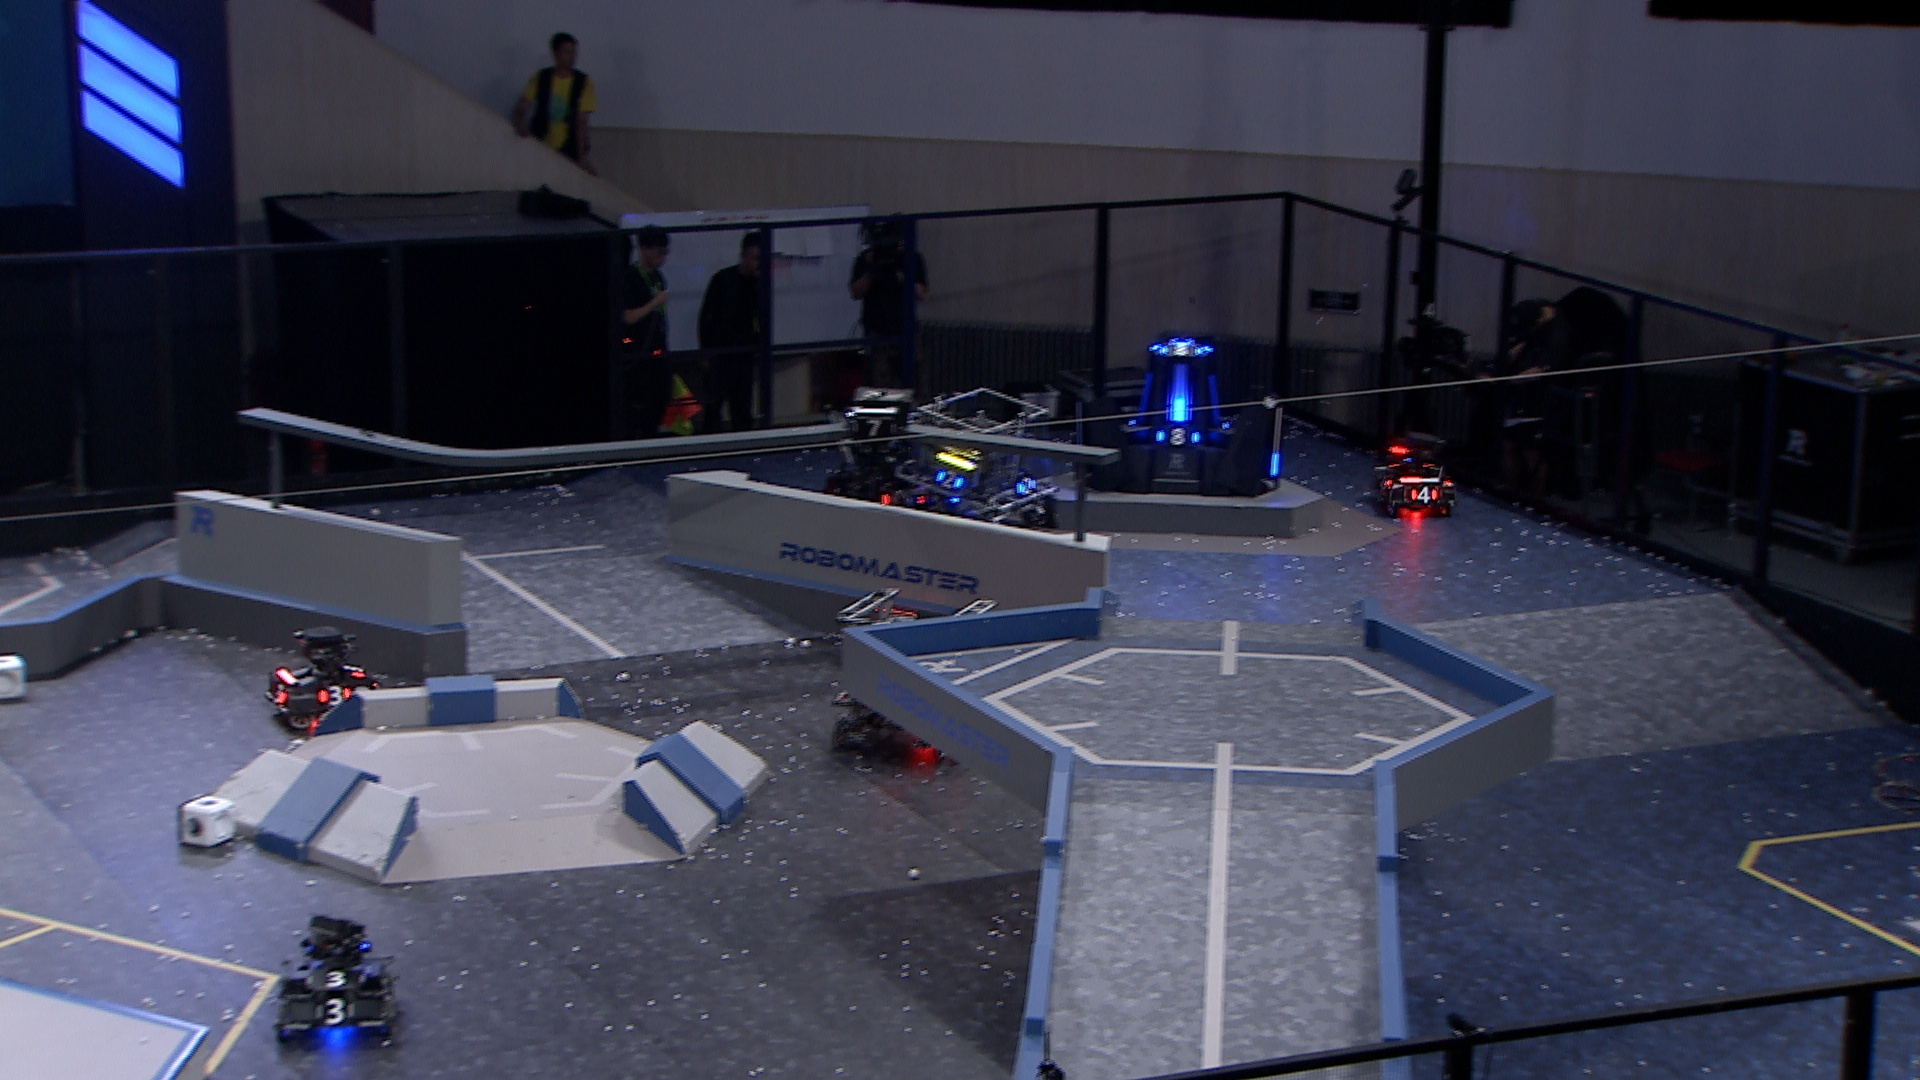armor: (305, 967, 367, 989), (314, 996, 359, 1026), (1131, 371, 1156, 425), (1153, 427, 1203, 448), (1207, 373, 1225, 427), (849, 418, 891, 440), (1158, 338, 1204, 357), (311, 684, 351, 707), (935, 467, 965, 491), (1406, 485, 1439, 502), (1013, 473, 1039, 495), (375, 975, 396, 1001), (1168, 394, 1188, 422), (268, 680, 289, 705), (338, 661, 365, 679), (1267, 451, 1284, 477), (1375, 473, 1394, 493)
base: (1069, 334, 1288, 500)
car: (825, 585, 1000, 769), (899, 386, 1062, 538), (273, 913, 398, 1048), (825, 400, 963, 524), (258, 622, 385, 731), (1370, 433, 1461, 517)
watcher: (841, 384, 916, 487)
